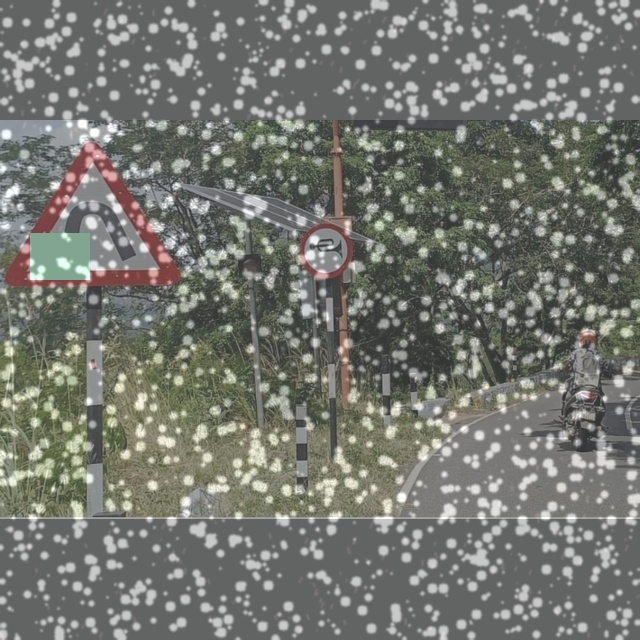Left_Hair_Pin_Bend: (10, 144, 182, 291)
